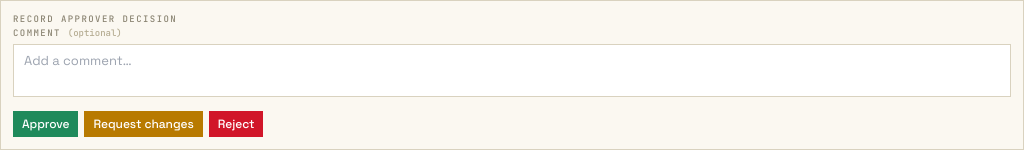
Scenario: SignoffPanel › disables buttons while submitting
Step 1. Click the button with aria-label "Approve this card" → (46, 124), box [13, 111, 78, 137]
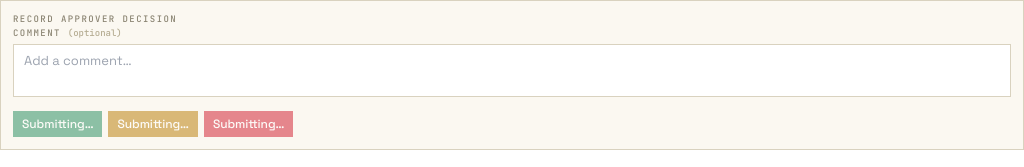
Expected: the button with aria-label "Approve this card" is disabled, [13, 111, 102, 137]
